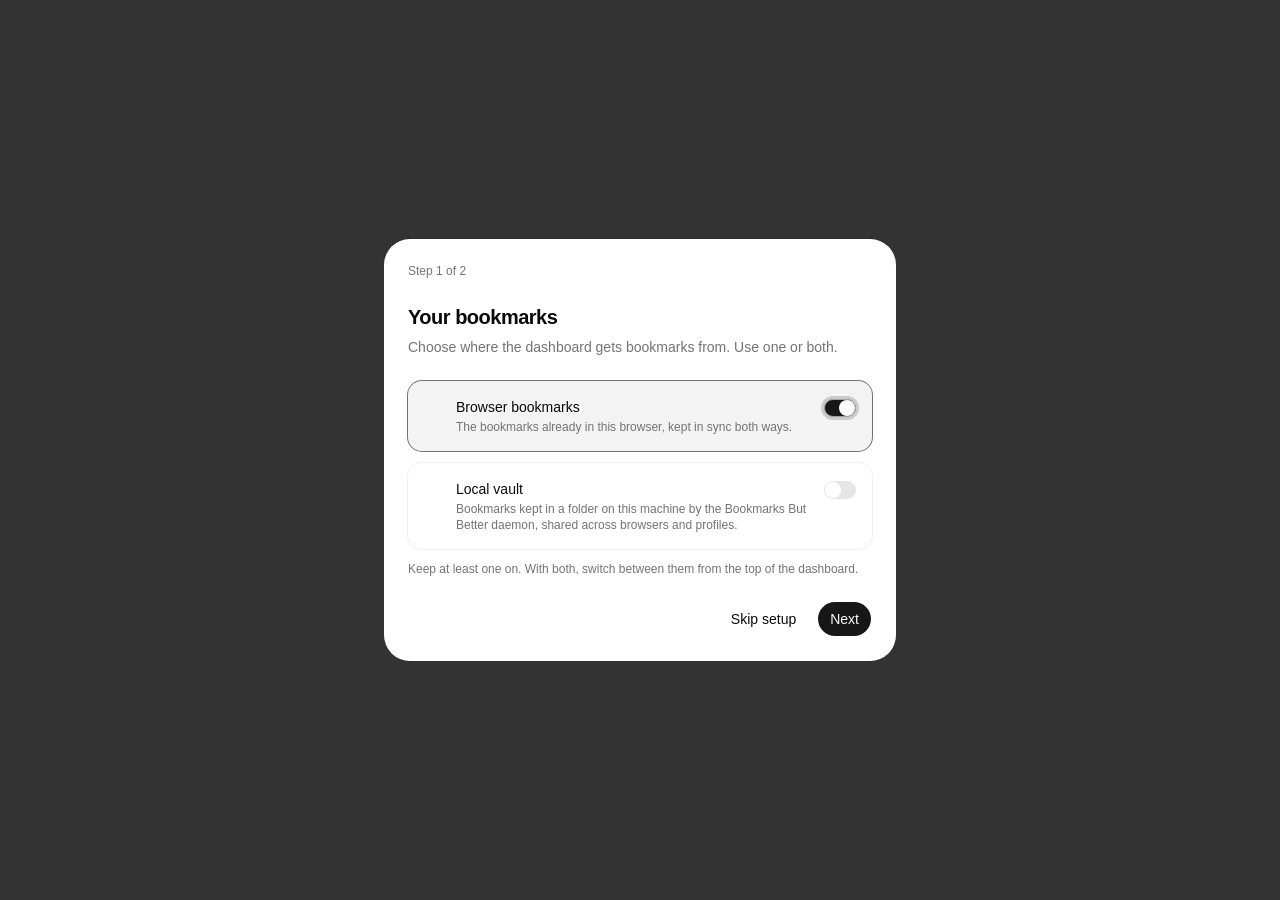
it: OnboardingWizard root folder step › drops the step entirely when the tree offers nowhere to point
The source step is followed straight by the teaching card.
Click the button "Next": [845, 619] box x1=817 y1=601 x2=872 y2=637
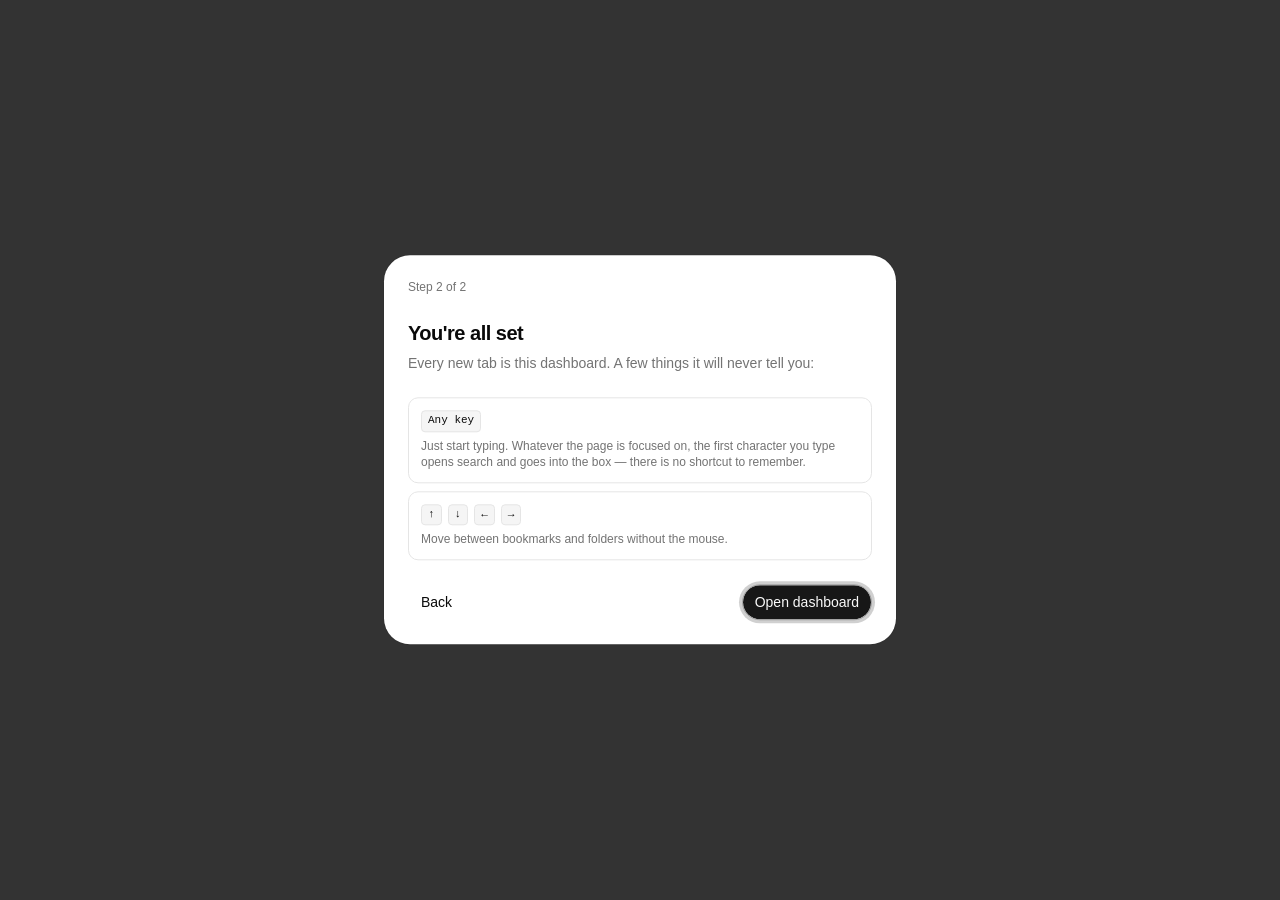
Result: the heading "You're all set" is shown at x1=408 y1=322 x2=523 y2=344
